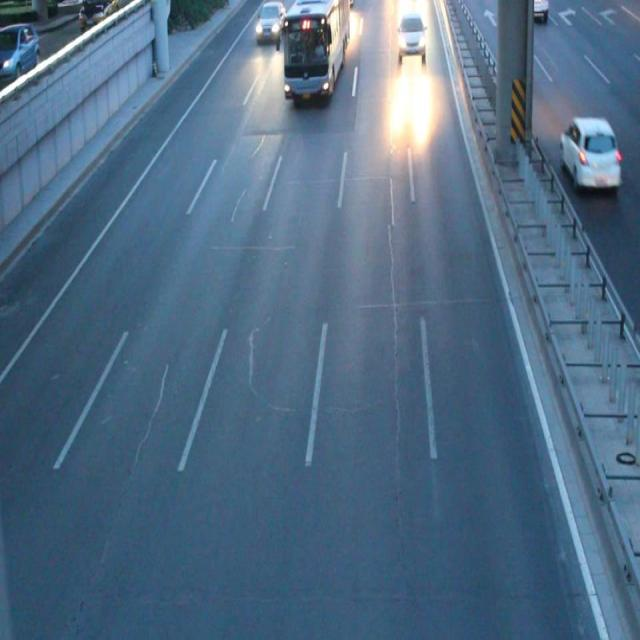car: (559, 117, 620, 194), (399, 17, 425, 59), (256, 1, 282, 40), (524, 1, 546, 22)
van: (284, 1, 348, 101)
